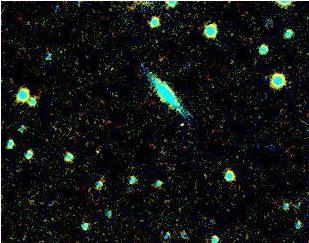star: (167, 108, 197, 138)
